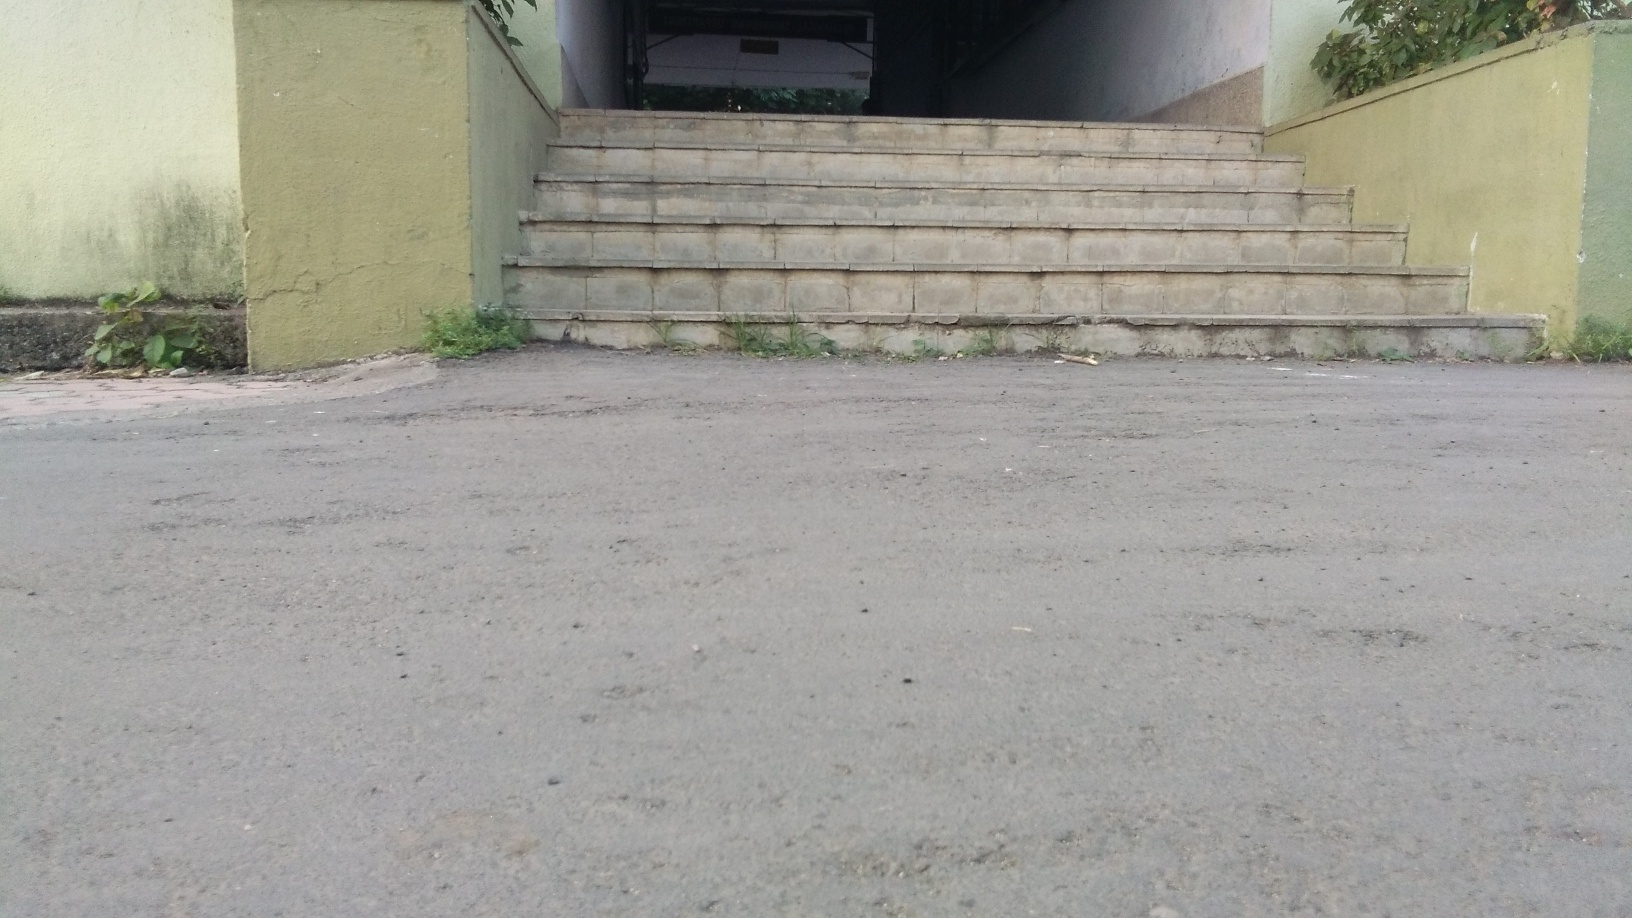stairs_up: (534, 102, 1539, 360)
